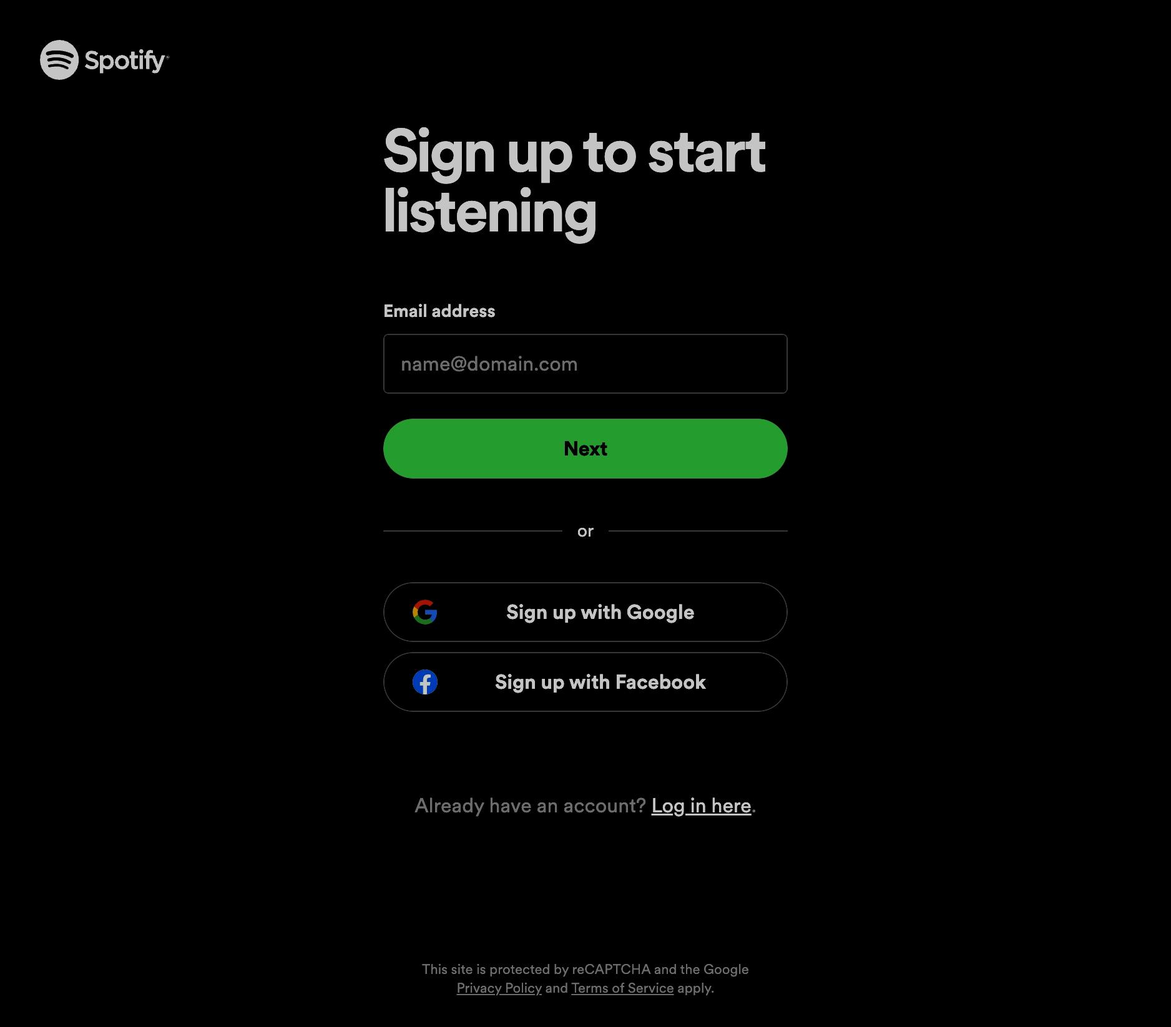webelement: (29, 958, 1140, 996), (382, 333, 786, 393), (382, 418, 786, 478), (382, 651, 786, 711), (382, 582, 786, 641), (382, 791, 786, 819), (39, 39, 169, 79), (650, 791, 750, 819), (382, 298, 494, 322), (571, 977, 673, 996), (456, 977, 541, 996), (561, 518, 607, 542)
